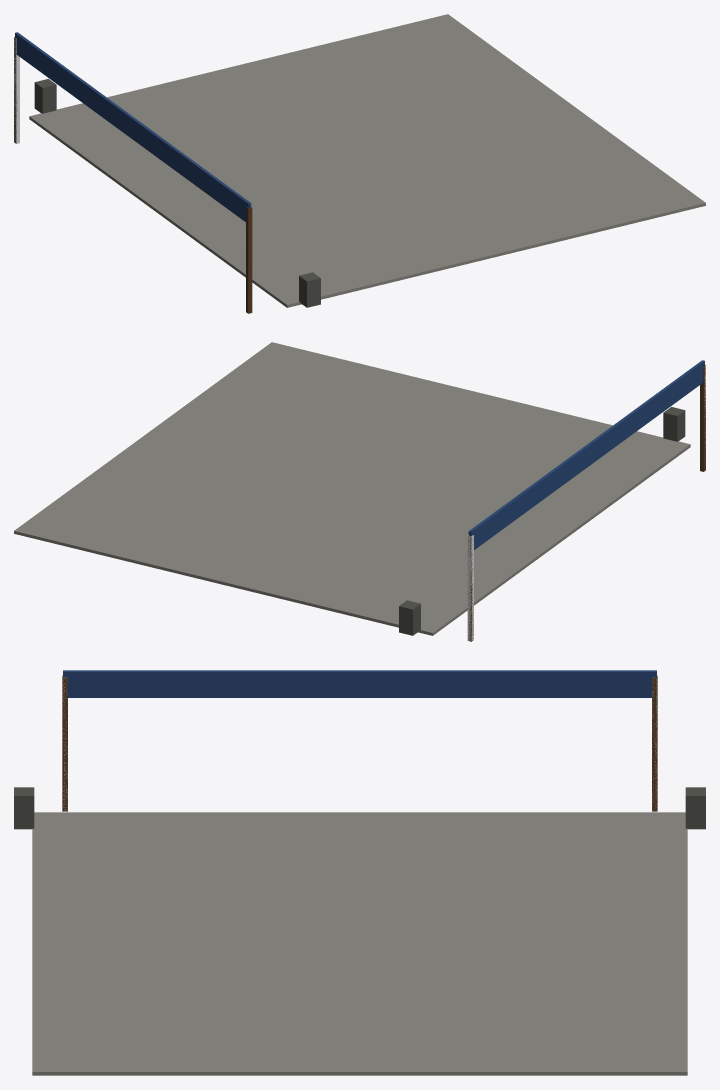
File: market.glb
3 renders of one model, top to bottom at view 1: azimuth 30°, elevation 25°; view 2: azimuth 150°, elevation 25°; view 3: azimuth 270°, elevation 25°, orthographic. The views are drawn at different scales.
Parts seen in each view (by area): view 1: 01_#8a8880_noshadow, 03_#2c4a7a_noshadow, 00_#55554f_r320, 02_#5a3e26, solid.003; view 2: 01_#8a8880_noshadow, 03_#2c4a7a_noshadow, 00_#55554f_r320, 02_#5a3e26, solid.003; view 3: 01_#8a8880_noshadow, 03_#2c4a7a_noshadow, 00_#55554f_r320, 02_#5a3e26.
Boxes of the visible parts, x1=… form: 01_#8a8880_noshadow: x1=29, y1=14, x2=705, y2=307; 03_#2c4a7a_noshadow: x1=15, y1=32, x2=251, y2=221; 00_#55554f_r320: x1=34, y1=79, x2=320, y2=307; 02_#5a3e26: x1=14, y1=37, x2=252, y2=313; solid.003: x1=14, y1=37, x2=19, y2=143; 01_#8a8880_noshadow: x1=14, y1=342, x2=690, y2=635; 03_#2c4a7a_noshadow: x1=468, y1=360, x2=704, y2=549; 00_#55554f_r320: x1=399, y1=407, x2=685, y2=635; 02_#5a3e26: x1=468, y1=365, x2=705, y2=641; solid.003: x1=467, y1=535, x2=473, y2=641; 01_#8a8880_noshadow: x1=32, y1=812, x2=687, y2=1075; 03_#2c4a7a_noshadow: x1=63, y1=670, x2=656, y2=697; 00_#55554f_r320: x1=14, y1=787, x2=705, y2=829; 02_#5a3e26: x1=62, y1=675, x2=657, y2=811.
Size of the model in its own units: 15.97 by 3.75 by 16.9.
